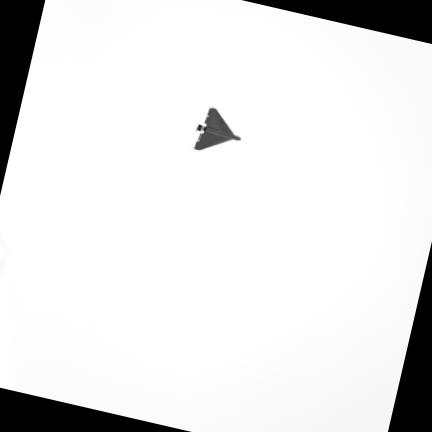Shahed: (194, 109, 239, 149)
